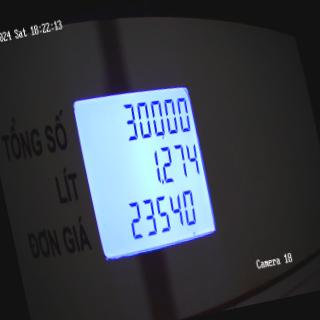screen: (65, 62, 226, 269)
